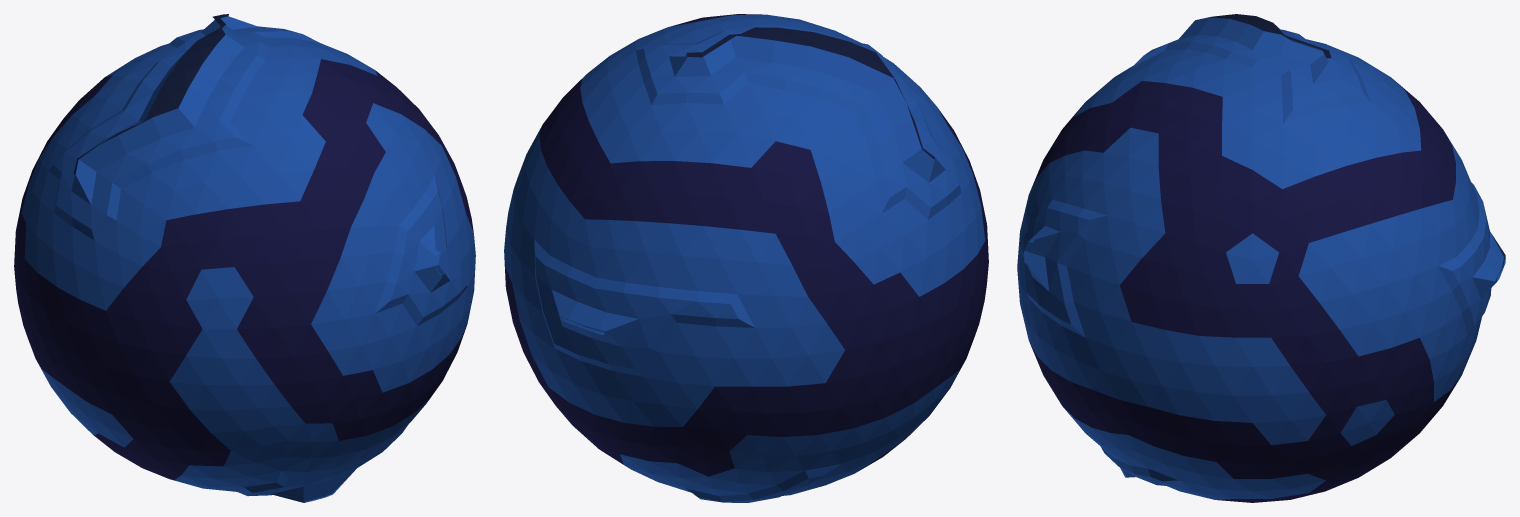
File: Planet4.fbx
3 views of the same model, side by side, from view 1: azimuth 30°, elevation 25°; view 2: azimuth 150°, elevation 25°; view 3: azimuth 270°, elevation 25° (orthographic). The views are drawn at different scales.
Visible parts, largest first — view 1: Icosphere; view 2: Icosphere; view 3: Icosphere.
Boxes of the visible parts, x1,y1,x2,y2 form: Icosphere: (14,14,475,502); Icosphere: (504,14,988,502); Icosphere: (1017,14,1505,502).
Size of the model in its own units: 1000 by 1038 by 1038.
